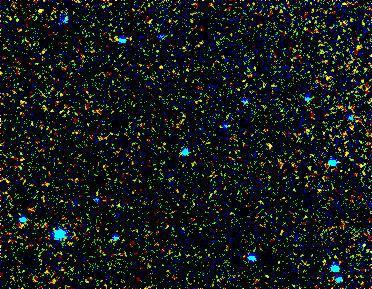star: (22, 1, 52, 31)
